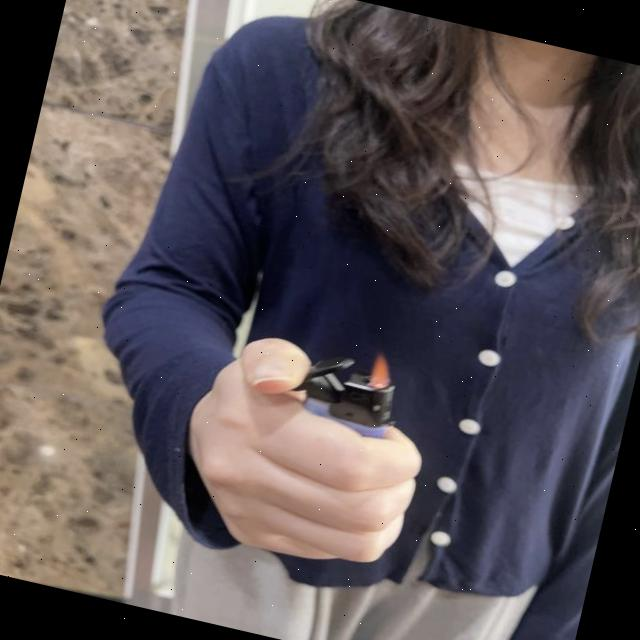fire: (366, 351, 396, 393)
